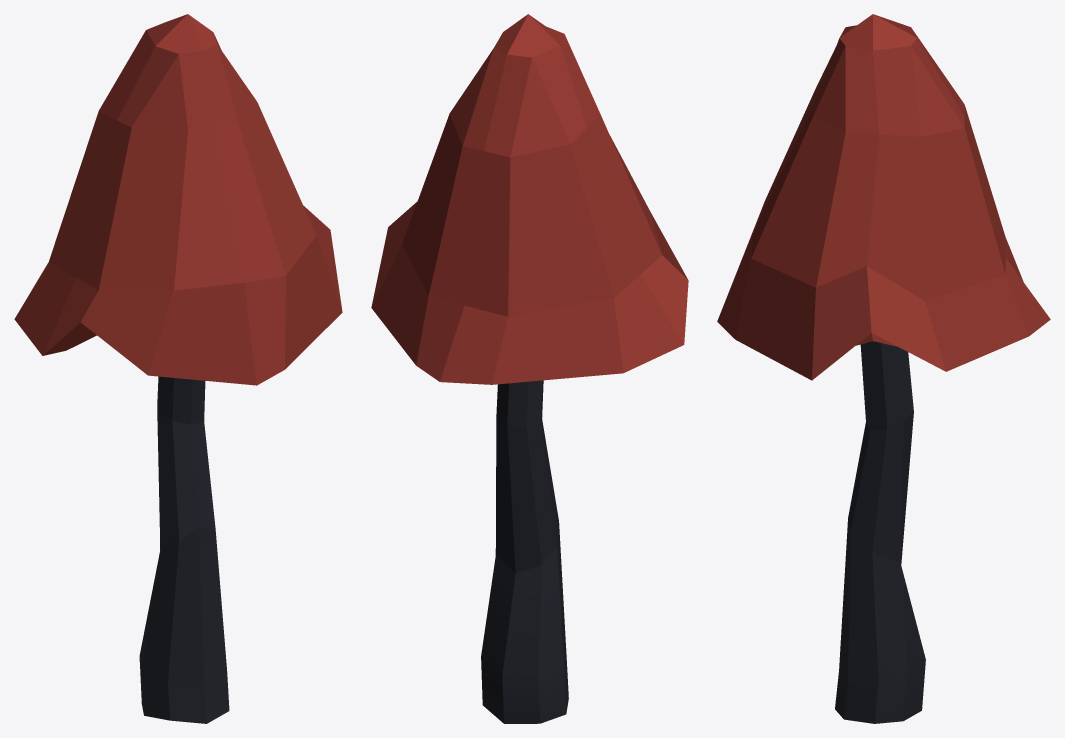
File: Mushroom2.fbx
3 renders of one model, left to right at view 1: azimuth 30°, elevation 25°; view 2: azimuth 150°, elevation 25°; view 3: azimuth 270°, elevation 25°, orthographic.
Parts seen in each view (by area): view 1: Mushroom2; view 2: Mushroom2; view 3: Mushroom2.
Part boxes in pixels (bbox=[...]): Mushroom2: bbox=[14, 14, 342, 723]; Mushroom2: bbox=[371, 14, 688, 723]; Mushroom2: bbox=[717, 14, 1050, 723].
Bounding box in the file's own units: 1.32 × 3.01 × 1.31.
